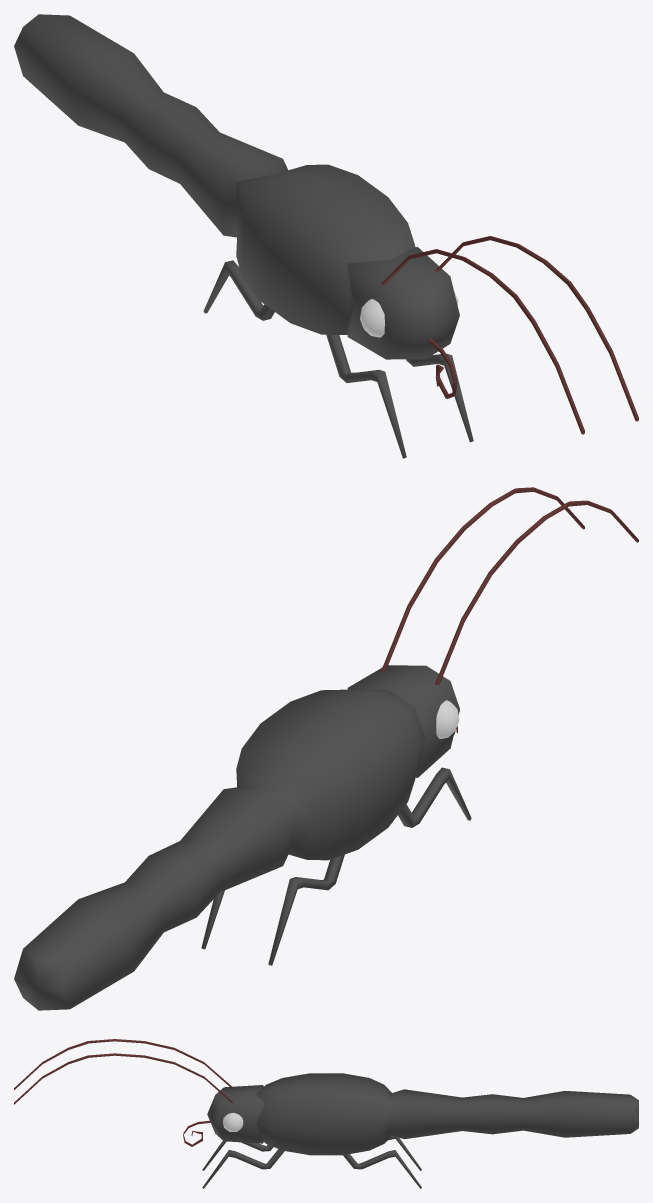
The model's file is body.glb.
3 views of the same model, one above another, from view 1: azimuth 30°, elevation 25°; view 2: azimuth 150°, elevation 25°; view 3: azimuth 270°, elevation 25° (orthographic). The views are drawn at different scales.
Parts seen in each view (by area): view 1: Cube, Cube.003, Cylinder.001, Cylinder, Cube.004, Cube.001, Icosphere.001; view 2: Cube, Cylinder.001, Cylinder, Cube.004, Cube.003; view 3: Cube, Cylinder, Cylinder.001, Cube.001, Cube.002, Icosphere, Cube.003.
Boxes of the visible parts, x1,y1,x2,y2 form: Cube: (14,14,459,359); Cube.003: (326,334,406,458); Cylinder.001: (381,249,584,434); Cylinder: (435,236,638,421); Cube.004: (203,260,274,320); Cube.001: (406,353,473,442); Icosphere.001: (360,299,384,337); Cube: (14,665,459,1010); Cylinder.001: (435,500,638,685); Cylinder: (381,487,584,671); Cube.004: (268,854,344,965); Cube.003: (398,767,471,827); Cube: (207,1073,638,1155); Cylinder: (14,1053,233,1104); Cylinder.001: (14,1039,233,1089); Cube.001: (202,1149,284,1188); Cube.002: (343,1150,421,1188); Icosphere: (223,1112,243,1131); Cube.003: (202,1141,273,1170).
Size of the model in its own units: 0.0874 by 0.1983 by 0.843.
